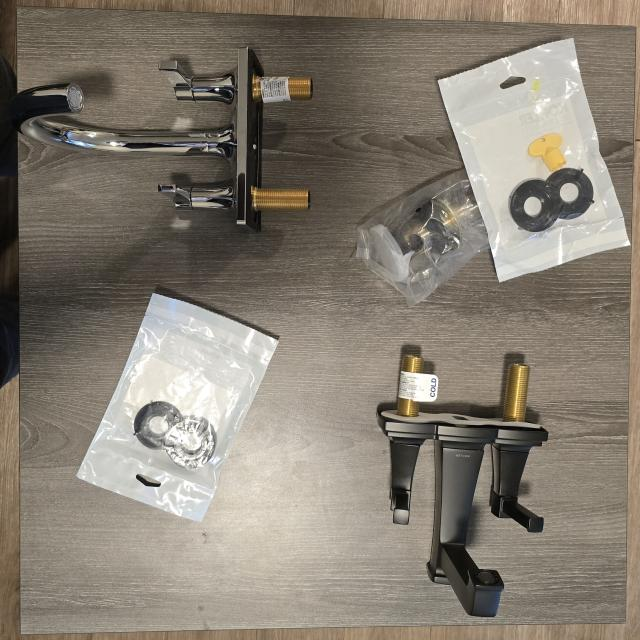10: (10, 48, 312, 230)
11o: (357, 170, 489, 306)
12: (439, 39, 629, 281)
13: (77, 294, 278, 521)
9: (379, 356, 548, 616)
